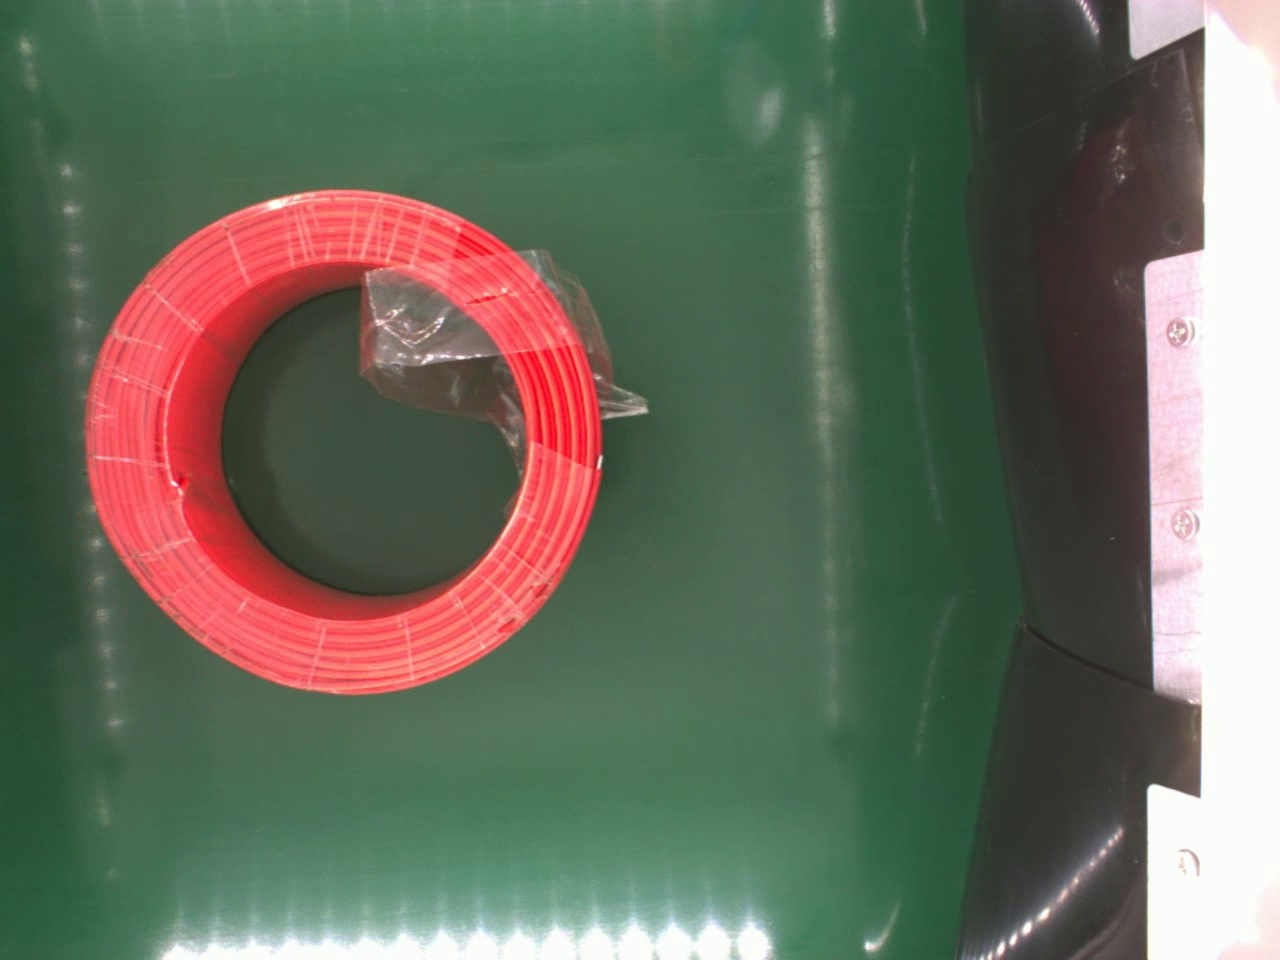red: (84, 188, 602, 693)
